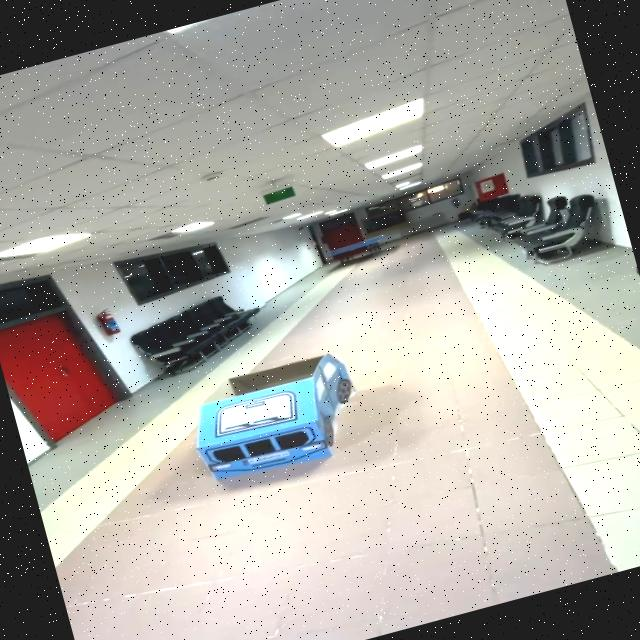blue_car: (164, 338, 383, 511)
